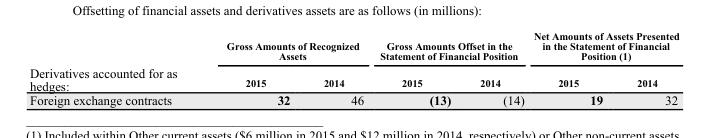table: (29, 29, 678, 106)
table column: (29, 29, 201, 106), (201, 29, 306, 106), (371, 29, 464, 106), (528, 29, 619, 106), (306, 29, 371, 106), (464, 29, 528, 106), (619, 29, 678, 106)
table column header: (29, 29, 678, 92)
table row: (29, 29, 678, 69), (29, 69, 678, 92), (29, 92, 678, 106)
table spanning cell: (29, 29, 201, 92), (201, 29, 371, 69), (371, 29, 528, 69), (528, 29, 678, 69)
